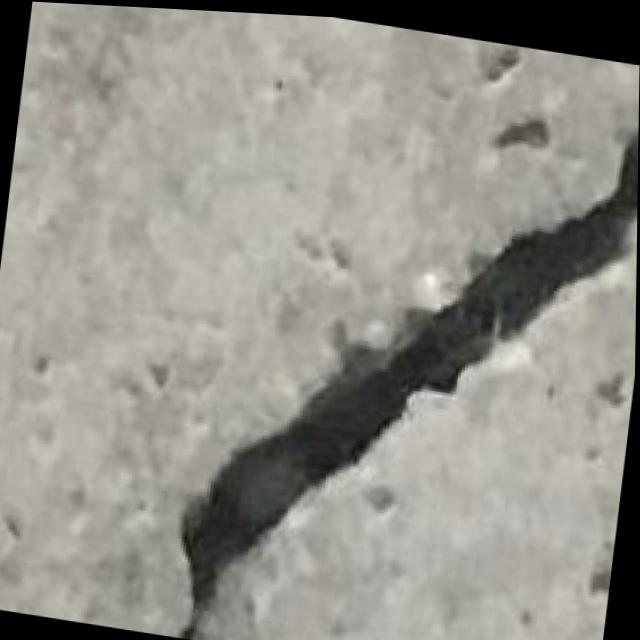Crack: (39, 71, 639, 640)
